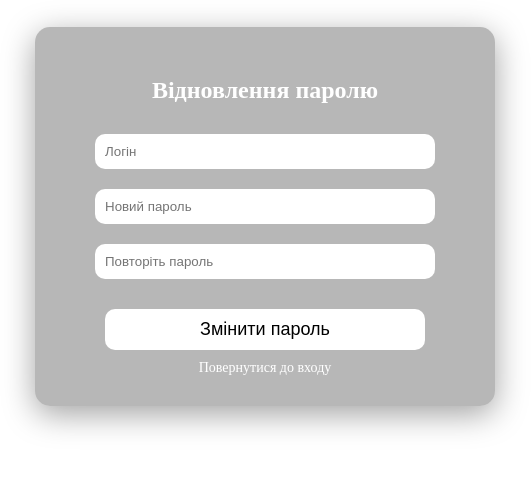
Test: PasswordRecoveryBox › показує повідомлення про помилку, якщо запит не вдався
This screenshot has width=531, height=500.
Type "user123" into the field with placeholder "Логін" at coordinates (265, 151), box [95,134,435,169]
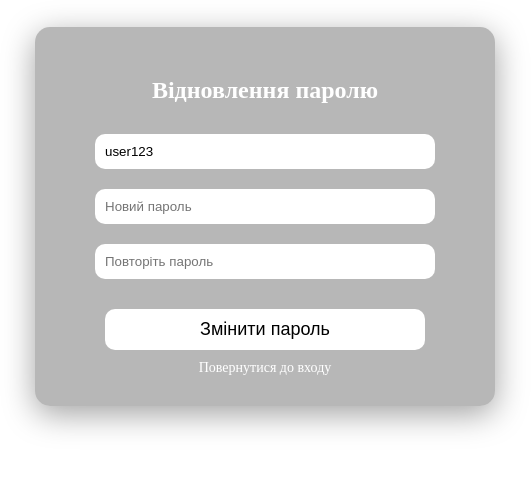
Type "password123" into the password field with placeholder "Новий пароль" at coordinates (265, 206), box [95,189,435,224]
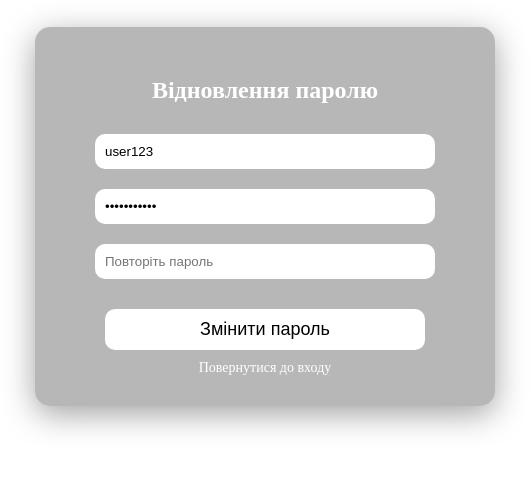
Type "password123" into the password field with placeholder "Повторіть пароль" at coordinates (265, 261), box [95,244,435,279]
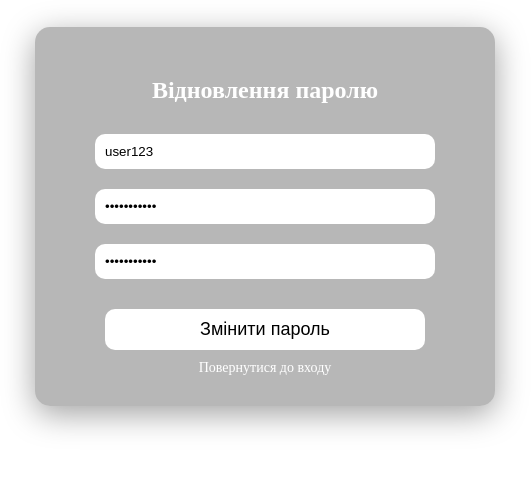
Click the button "Змінити пароль" at coordinates (265, 329), box [105,309,425,350]
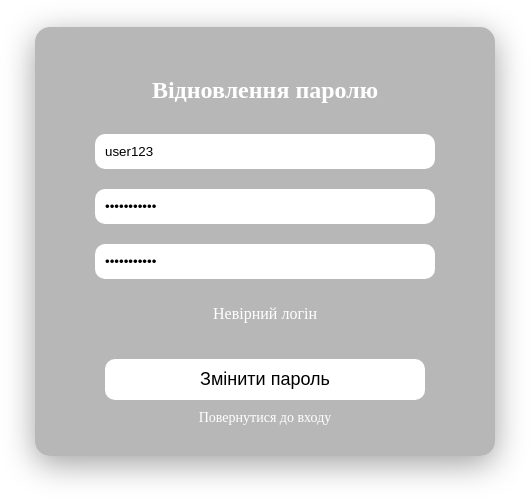
Check: the text "Невірний логін" is shown, box [213,305,317,322]
